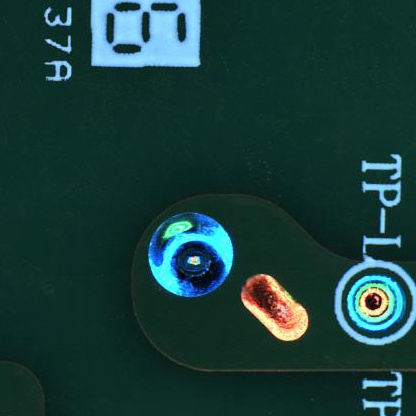spot: (148, 200, 236, 305), (342, 267, 406, 336)
